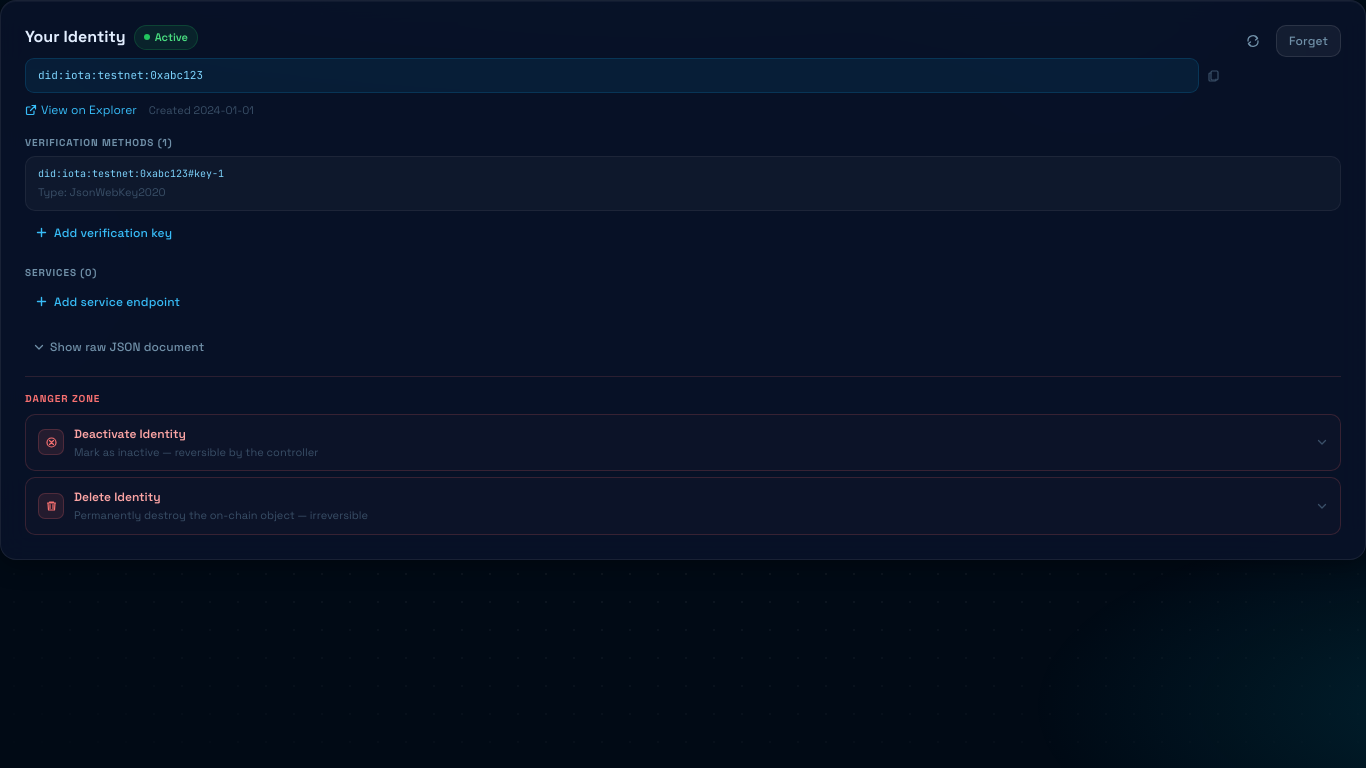
Test: IdentityDashboard — add verification key form › clicking Add verification key reveals the inline form
Click the button "Add verification key" at {"x": 113, "y": 233}, box [25,217,1341,249]
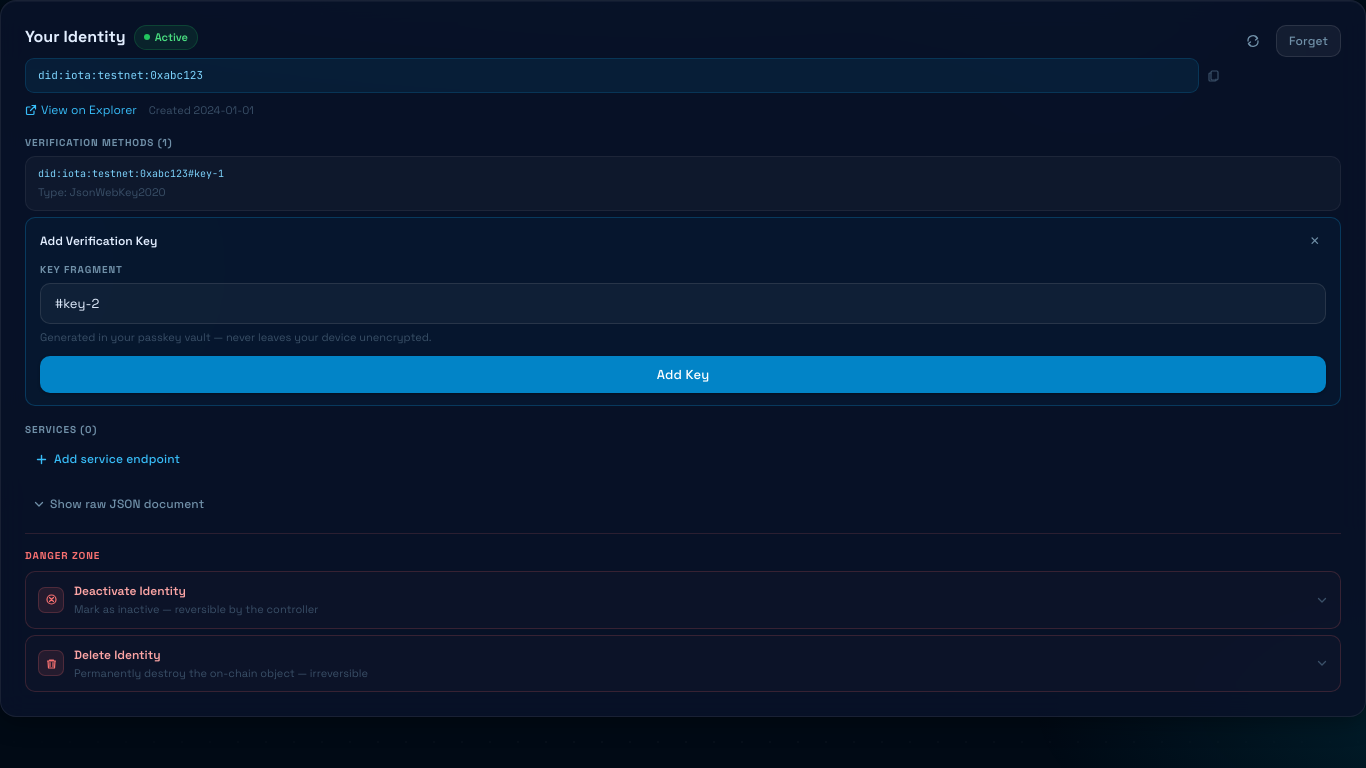
Expected: the text "Add Verification Key" is shown, [40,232,157,250]
Result: the field with placeholder "#key-2" is shown at [40,283,1326,324]
